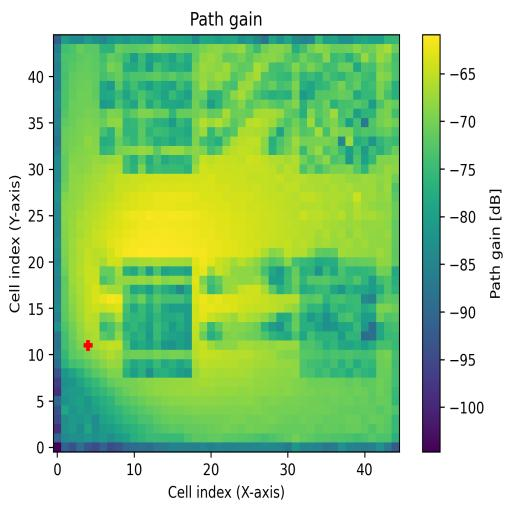Concrete: (300, 52, 376, 174)
Glass: (123, 53, 192, 174)
Metal: (300, 258, 378, 378)
Wood: (122, 266, 192, 379)
